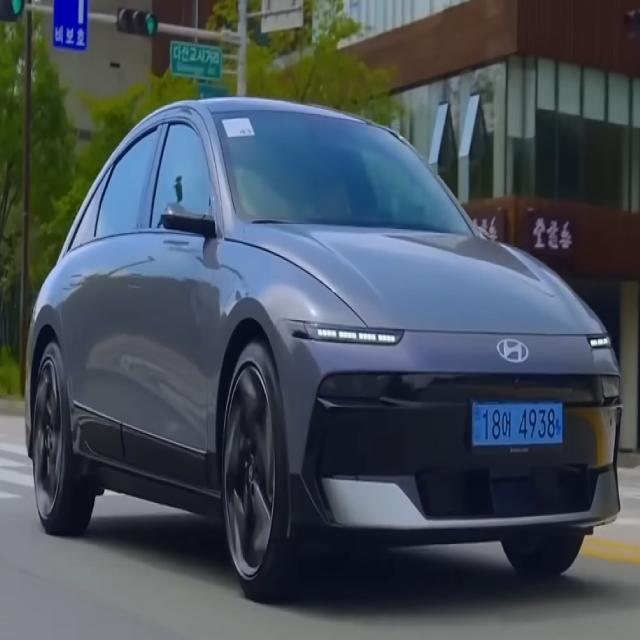car: (457, 385, 577, 461)
carev: (470, 391, 484, 456), (555, 397, 566, 447)
